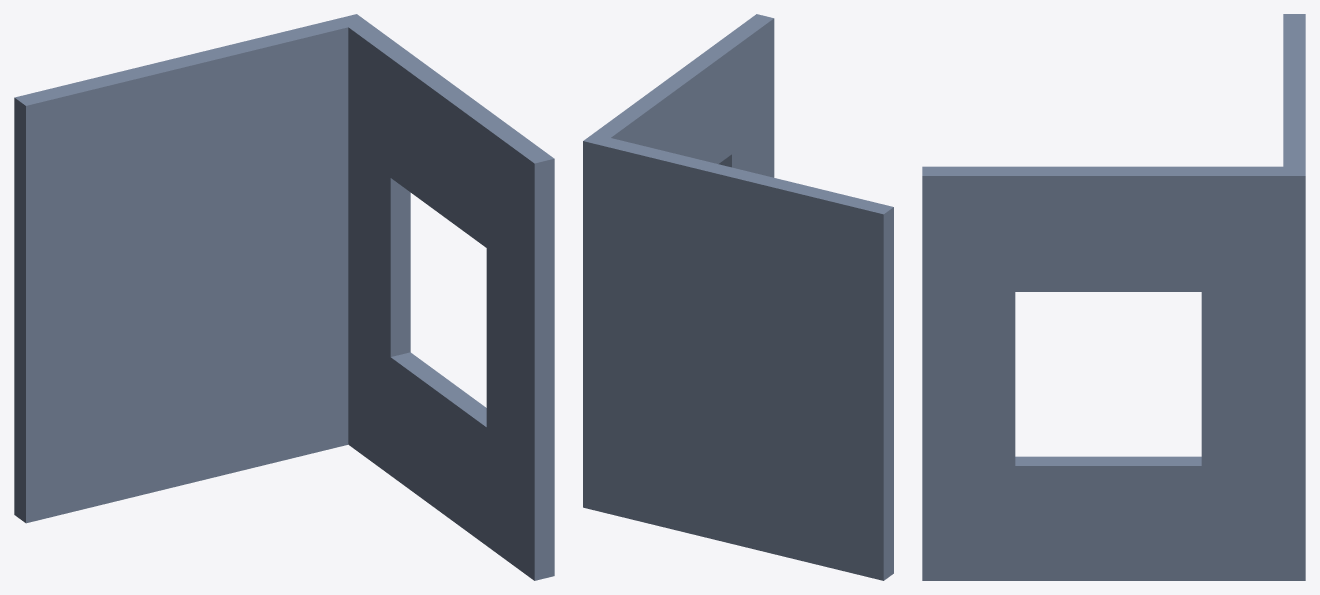
File: Wall3_C1_11.fbx
3 views of the same model, side by side, from view 1: azimuth 30°, elevation 25°; view 2: azimuth 150°, elevation 25°; view 3: azimuth 270°, elevation 25° (orthographic). The views are drawn at different scales.
Visible parts, largest first — view 1: Wall3_C1_11; view 2: Wall3_C1_11; view 3: Wall3_C1_11.
Part boxes in pixels (x1,y1,x2,y2): Wall3_C1_11: (14,14,554,580); Wall3_C1_11: (583,14,893,580); Wall3_C1_11: (922,14,1305,580).
Size of the model in its own units: 258 by 300 by 258.
